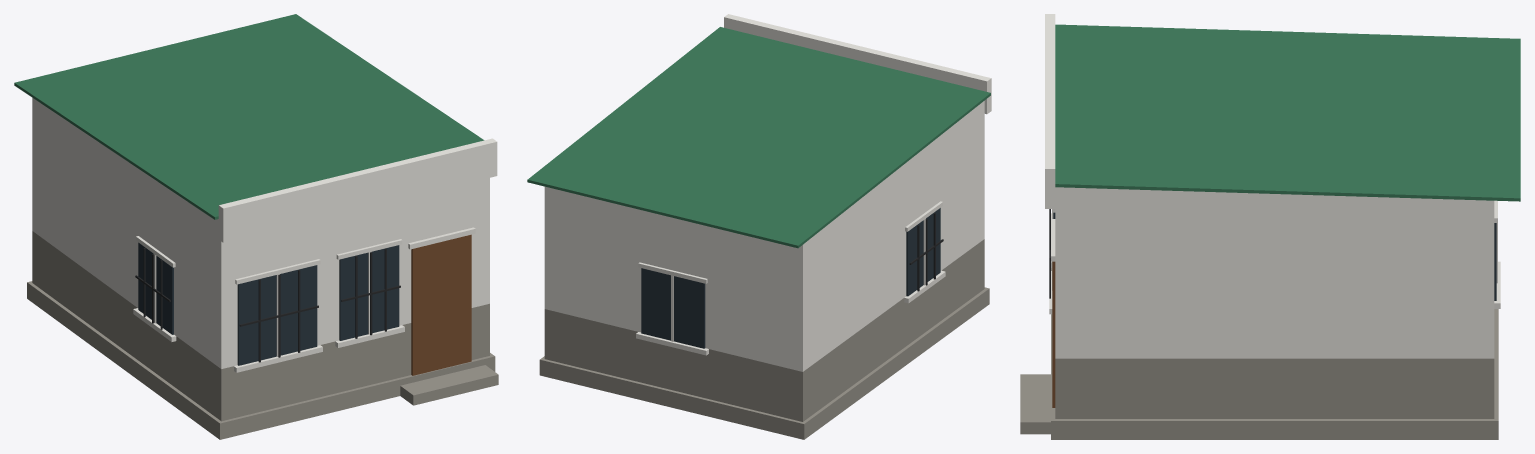
The model's file is BAY_F_Shop_T.glb.
The picture shows the model from 3 angles, left to right: view 1: azimuth 30°, elevation 25°; view 2: azimuth 150°, elevation 25°; view 3: azimuth 270°, elevation 25°; orthographic projection. The views are drawn at different scales.
Parts seen in each view (by area): view 1: BAY_F_Shop_T; view 2: BAY_F_Shop_T; view 3: BAY_F_Shop_T.
Part boxes in pixels (<box>): BAY_F_Shop_T: <box>14,14,498,439</box>; BAY_F_Shop_T: <box>527,14,991,439</box>; BAY_F_Shop_T: <box>1020,14,1520,439</box>.
Size of the model in its own units: 4.3 by 3.4 by 5.7.
Materials: 1 (1 with a texture image).
